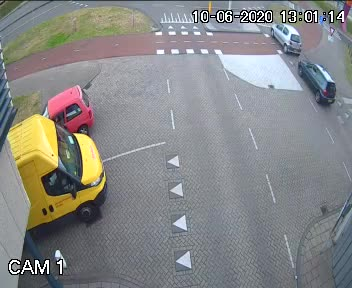car: (0, 121, 129, 239), (47, 81, 100, 138), (293, 55, 338, 110), (267, 20, 301, 56)
